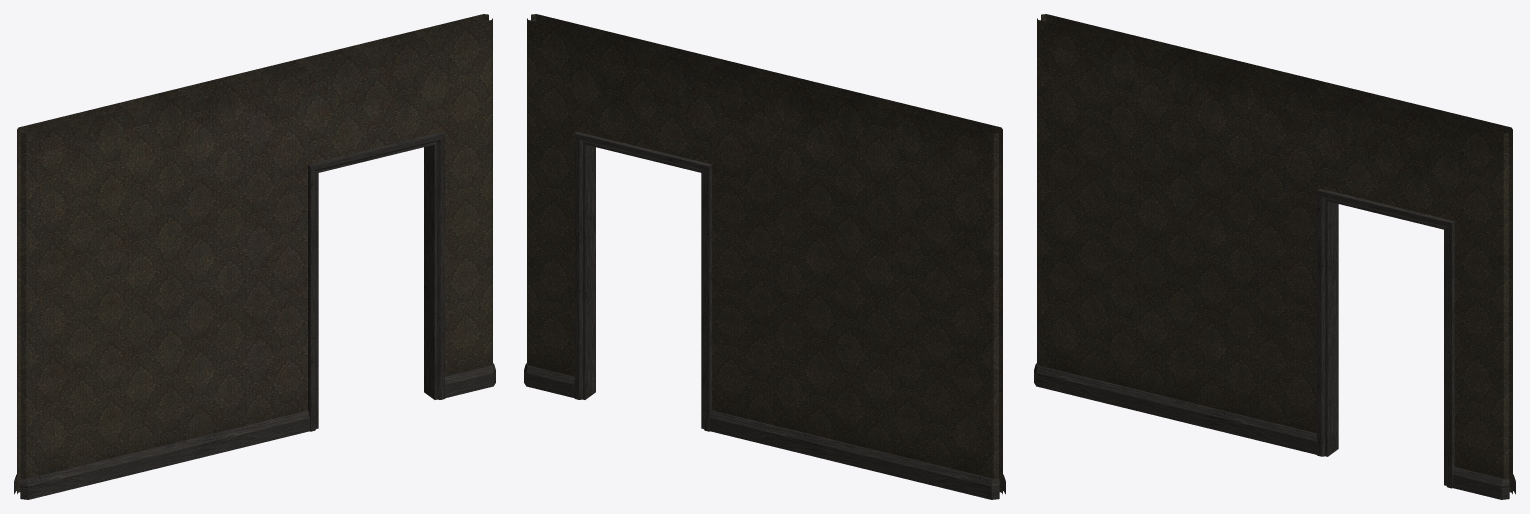
Rendered from side_doorway_2_1.obj.
3 renders of one model, left to right at view 1: azimuth 30°, elevation 25°; view 2: azimuth 150°, elevation 25°; view 3: azimuth 330°, elevation 25°, orthographic.
Parts seen in each view (by area): view 1: side_doorway_2_1; view 2: side_doorway_2_1; view 3: side_doorway_2_1.
Boxes of the visible parts, x1,y1,x2,y2 form: side_doorway_2_1: [14, 14, 495, 499]; side_doorway_2_1: [524, 14, 1005, 499]; side_doorway_2_1: [1034, 14, 1515, 499].
Size of the model in its own units: 4.09 by 3 by 0.2.
